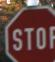Stop sign: (0, 0, 54, 61)
